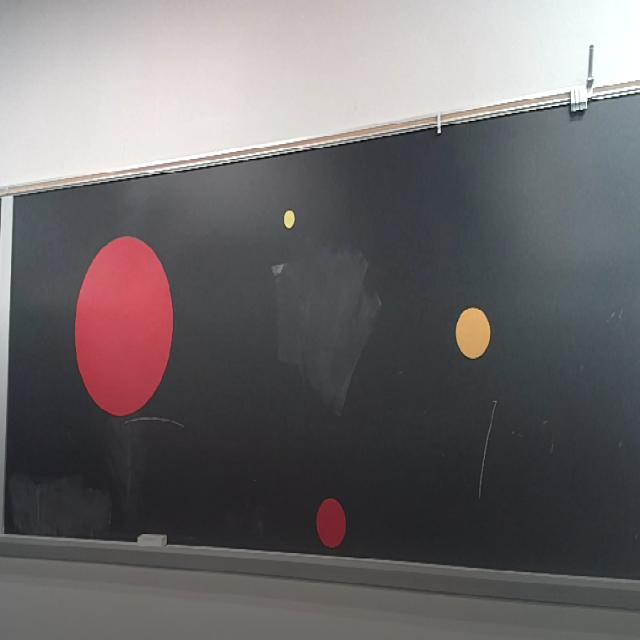Orange: (455, 307, 492, 359)
Red: (73, 232, 175, 418), (316, 496, 347, 550)
Yellow: (283, 208, 296, 230)
